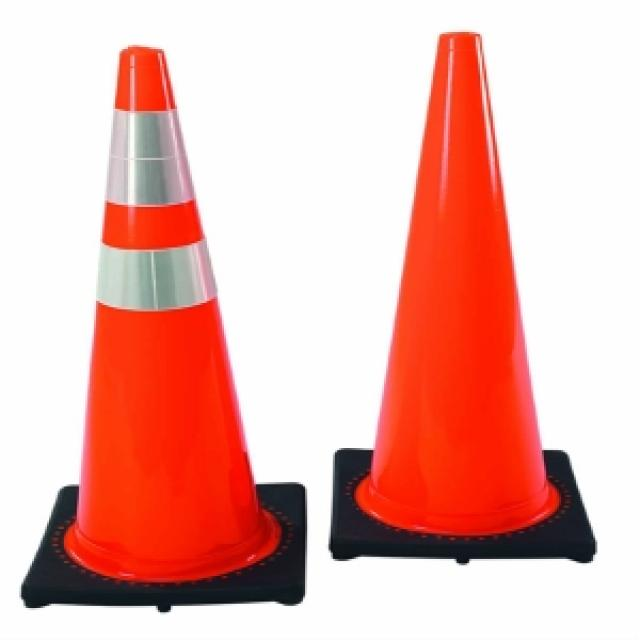Traffic Cone: (19, 42, 307, 612), (326, 30, 597, 567)
